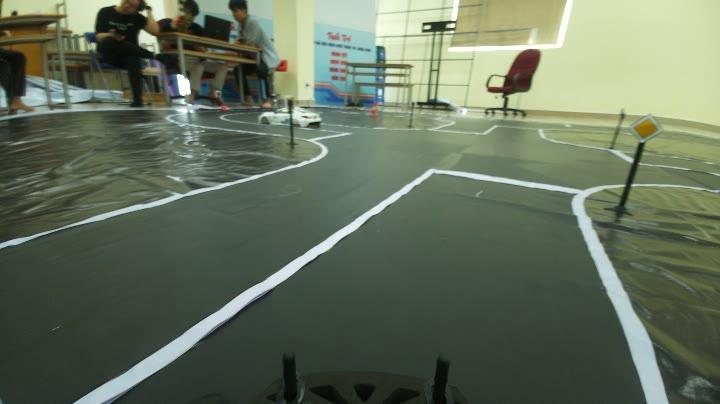priority: (630, 111, 668, 148)
